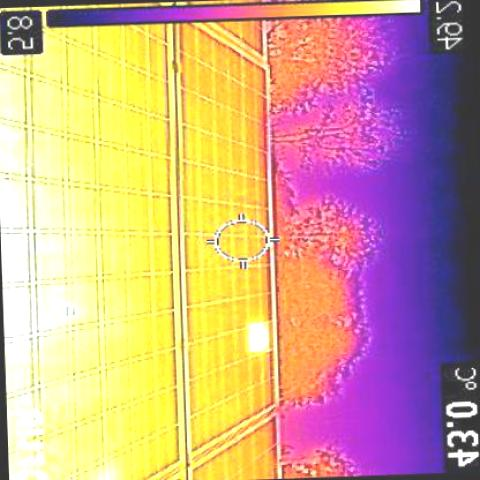fault: (245, 322, 272, 352)
